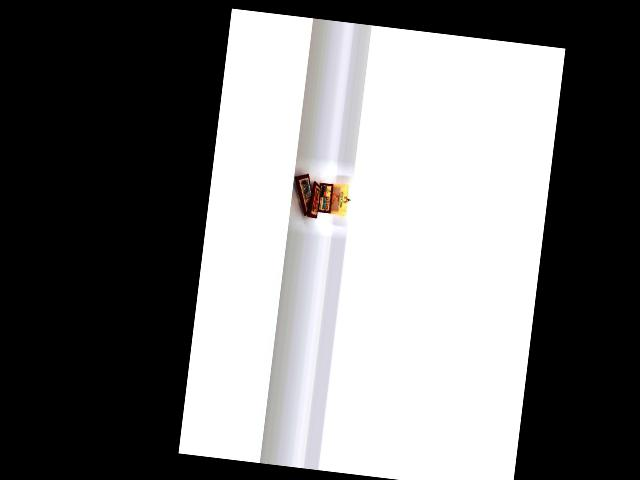chocolate: (287, 163, 317, 219)
